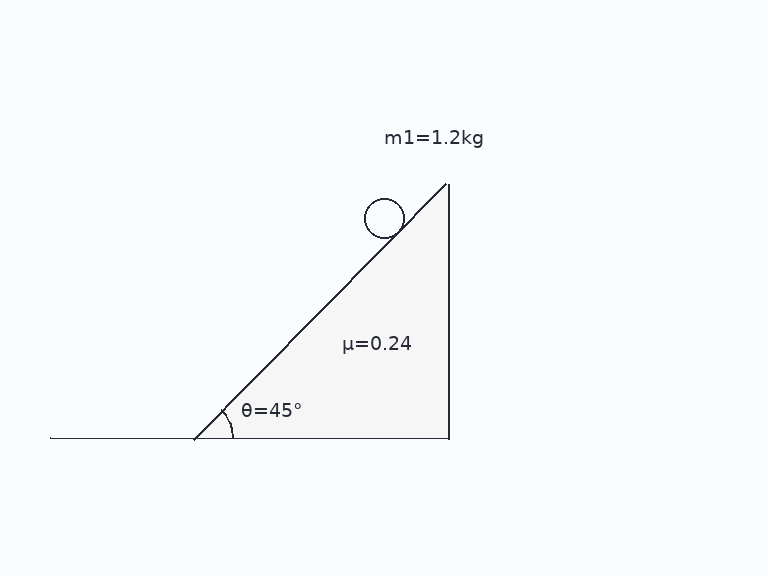ball: (362, 196, 406, 240)
ramp: (191, 181, 450, 440)
